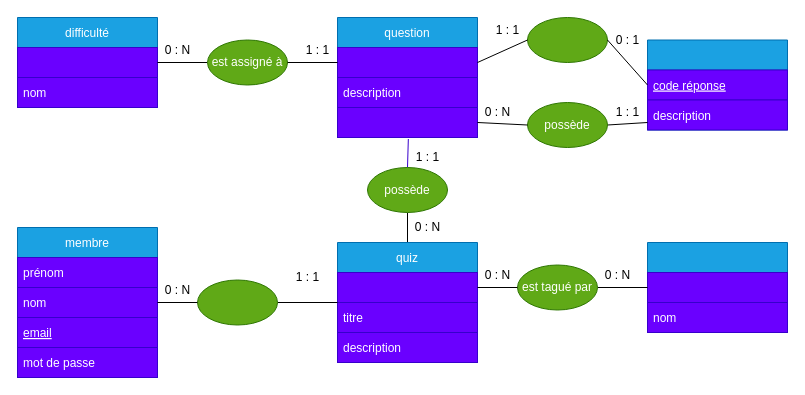
Image size: 805x395. Some labels were removed from this diagram. The box of each missing label's shape, as (x1, y1, x2, y2) in pixels:
code difficulté: (16, 46, 158, 78)
code question: (336, 46, 478, 78)
code quiz: (336, 272, 478, 302)
code thème: (646, 272, 788, 302)
contexte: (336, 106, 478, 138)
créé: (196, 279, 278, 325)
proposition: (646, 39, 788, 130)
theme: (646, 242, 788, 332)
valide: (526, 16, 608, 62)
